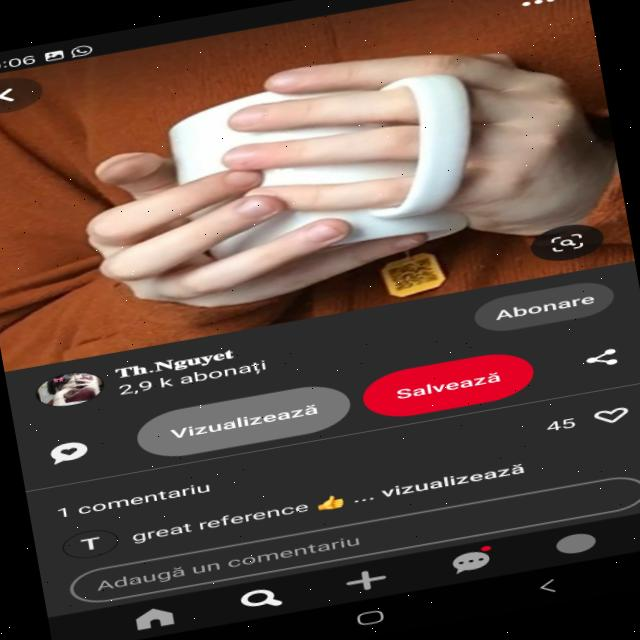hands: (217, 0, 631, 308)
